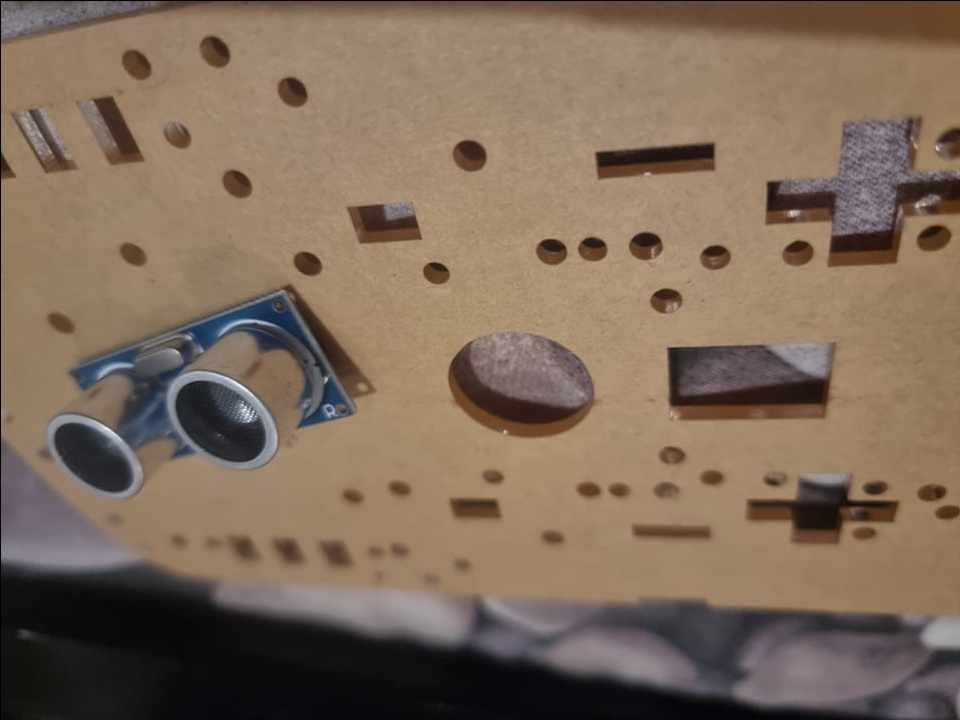SENSOR: (45, 295, 357, 498)
